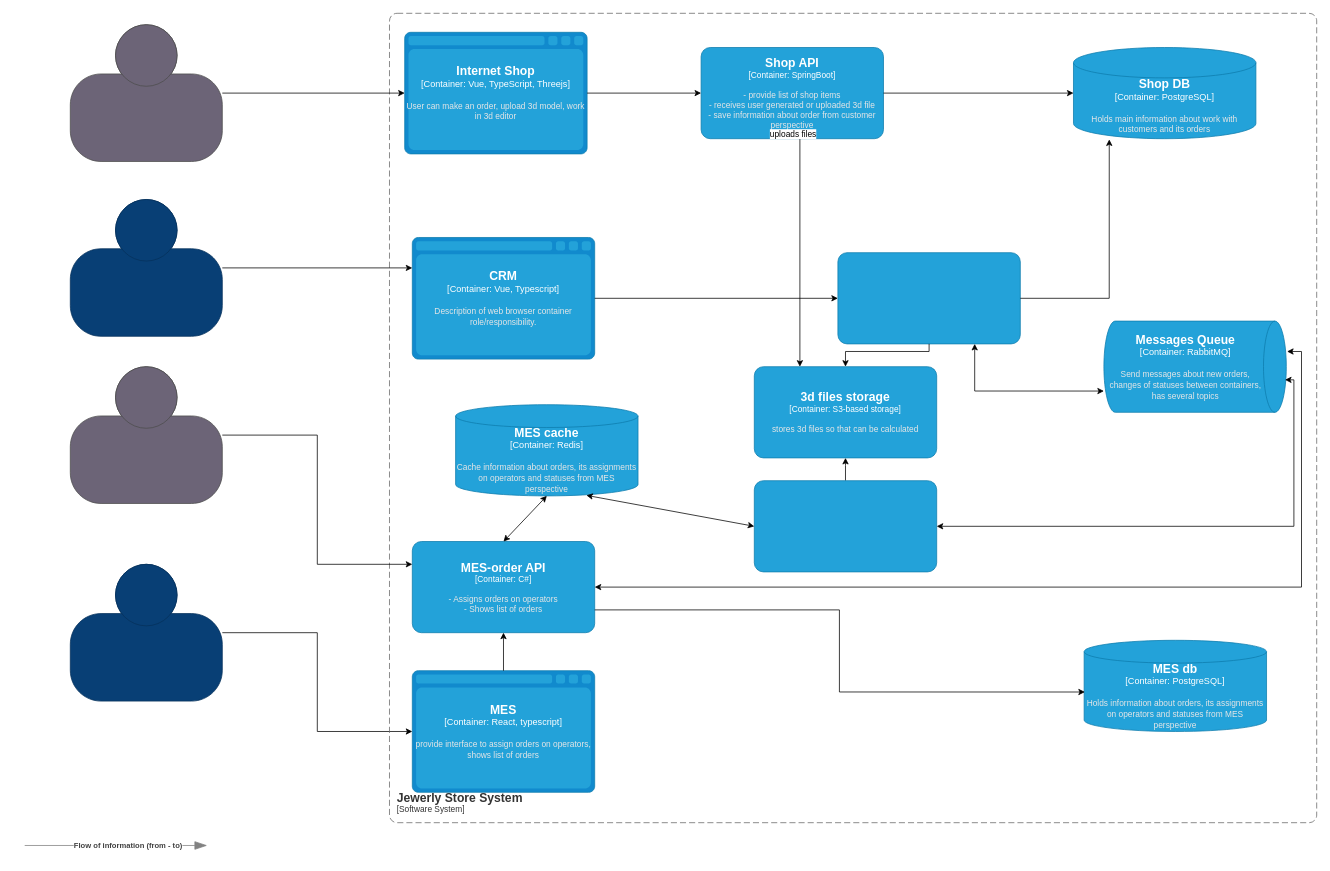
The diagram is 1330 pixels wide and 871 high, and some of its shapes have lost their labels. Each missing label, with the centre of its shape:
API user [Person] Description of external person.: the point at 146,435
CRM API [Container: SpringBoot] Description of container role/responsibility.: the point at 928,298
Customer [Person] Description of external person.: the point at 146,93
MES-price API [Container: C#] - Calculates price of the order: the point at 845,526
Operator [Person] Takes order in work, manufactures jewerly: the point at 146,632
Seller [Person] Operates with order, confirms manufacturing for the user: the point at 146,267
